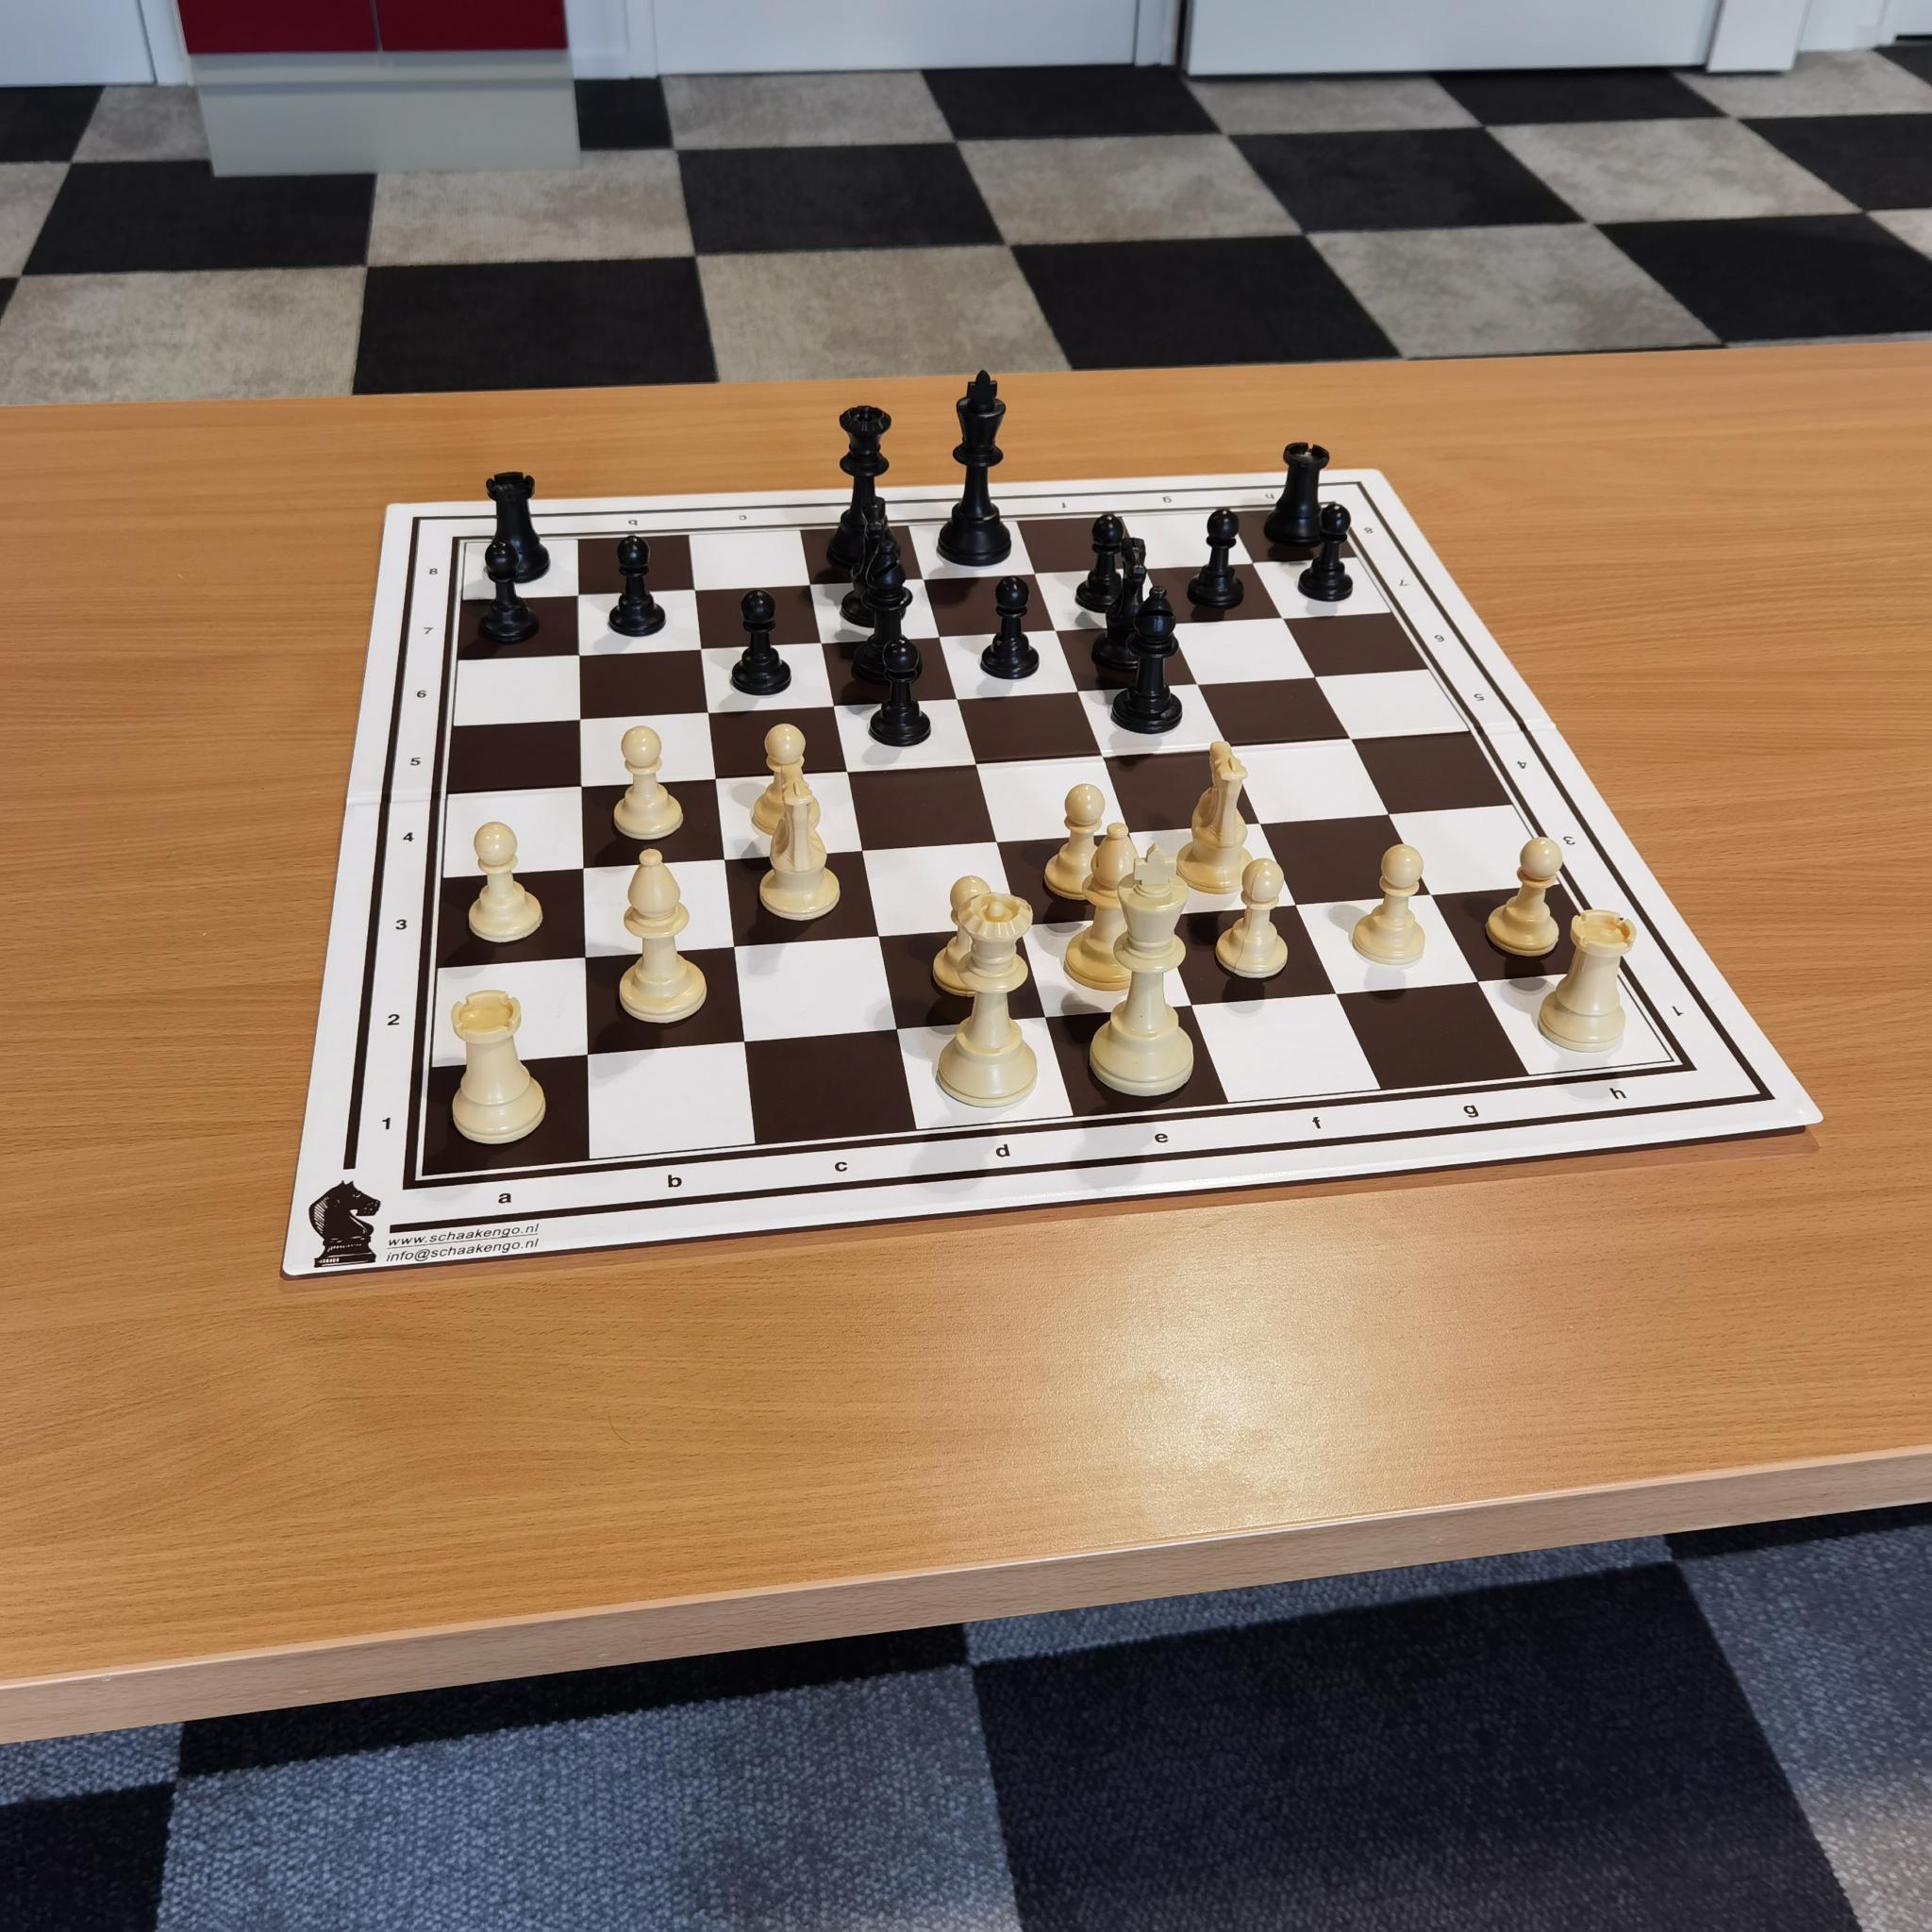corners: (391, 1166, 439, 1217), (1661, 1047, 1714, 1088), (1327, 495, 1359, 525), (442, 527, 474, 554)
eight: (416, 552, 451, 589), (1357, 511, 1385, 545)
one: (364, 1099, 410, 1146), (1658, 991, 1700, 1031)
